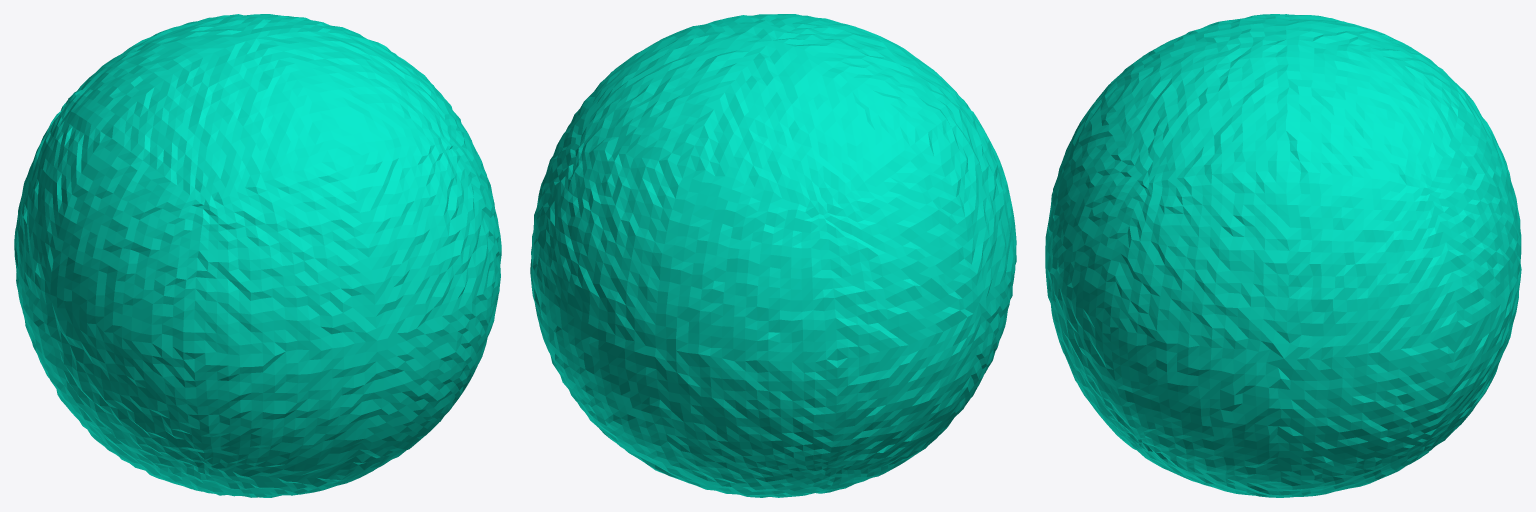
The model's file is Sea32.fbx.
3 views of the same model, side by side, from view 1: azimuth 30°, elevation 25°; view 2: azimuth 150°, elevation 25°; view 3: azimuth 270°, elevation 25° (orthographic).
Visible parts, largest first — view 1: pCube1; view 2: pCube1; view 3: pCube1.
Part boxes in pixels (x1,y1,x2,y2): pCube1: [14, 14, 501, 497]; pCube1: [530, 14, 1016, 497]; pCube1: [1045, 14, 1521, 497].
Bounding box in the file's own units: 40.06 × 40.02 × 39.98.
